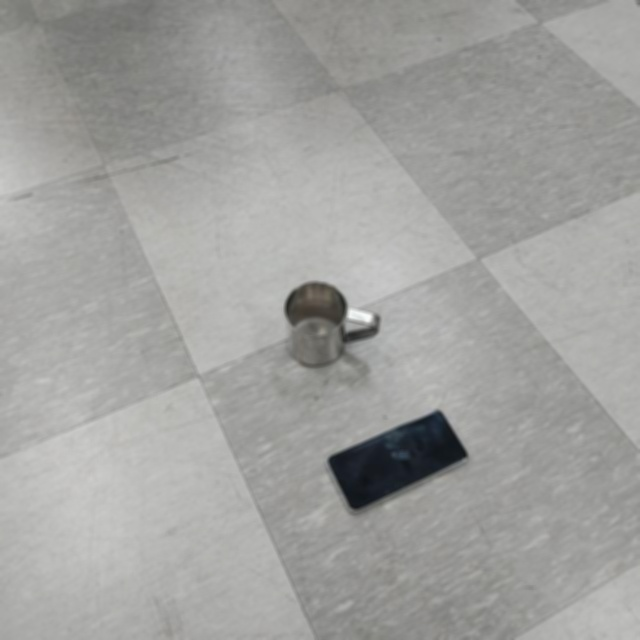cup: (281, 280, 381, 369)
phone: (320, 407, 470, 515)
